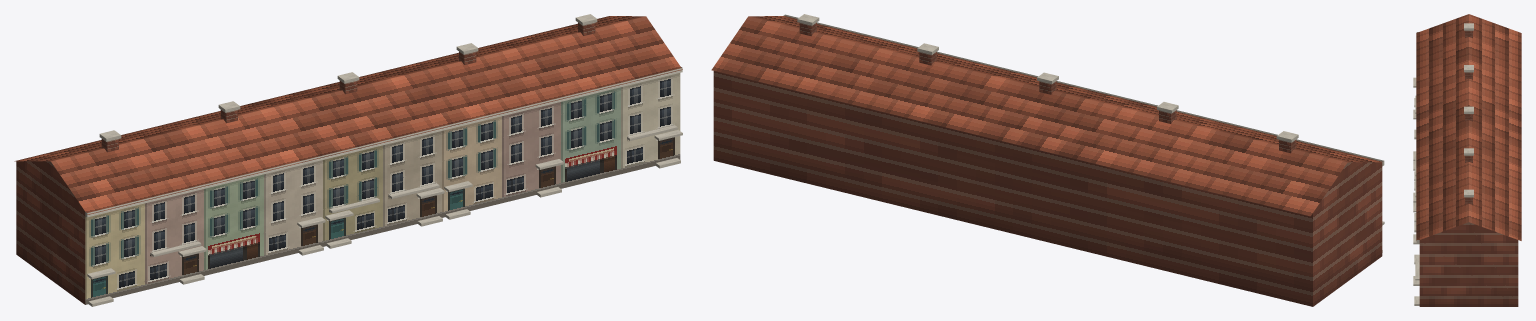
File: env_bld_terrace_normal.glb
3 views of the same model, side by side, from view 1: azimuth 30°, elevation 25°; view 2: azimuth 150°, elevation 25°; view 3: azimuth 270°, elevation 25° (orthographic). The views are drawn at different scales.
Visible parts, largest first — view 1: env_bld_terrace_normal; view 2: env_bld_terrace_normal; view 3: env_bld_terrace_normal.
Boxes of the visible parts, <box> form: env_bld_terrace_normal: <box>14,14,682,306</box>; env_bld_terrace_normal: <box>711,14,1384,306</box>; env_bld_terrace_normal: <box>1413,14,1521,306</box>.
Bounding box in the file's own units: 0.1 × 0.021 × 0.022.
4 materials, 4 textured.
